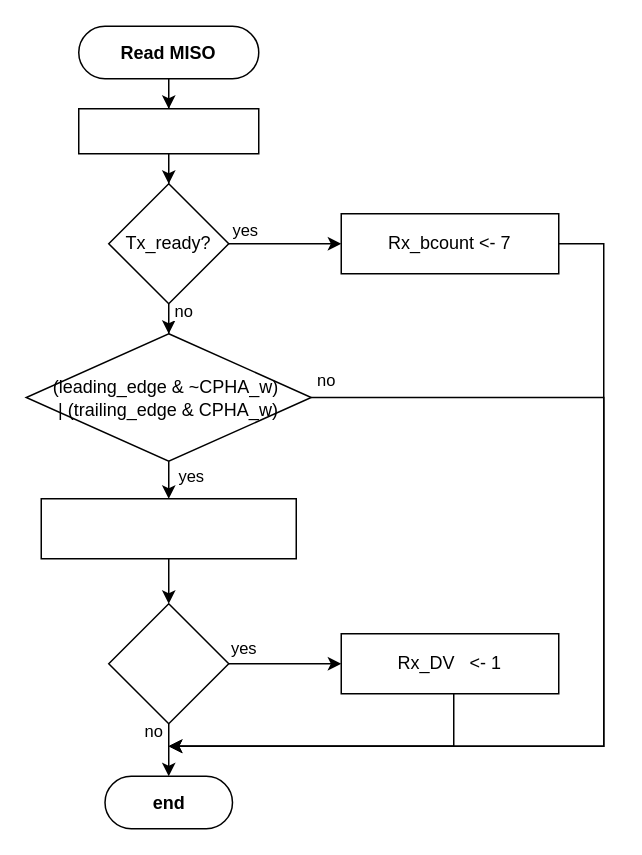
The diagram is 642 pixels wide and 855 high, and some of its shapes have lost their labels. The centre of each missing label's shape, as x and y in pixels:
Rx_byte[Rx_bcount] <- MISO Rx_bcount <- Rx_bcount - 1'b1;: (168,528)
Rx_DV <- 0: (168,130)
~Rx_bcount: (168,663)
